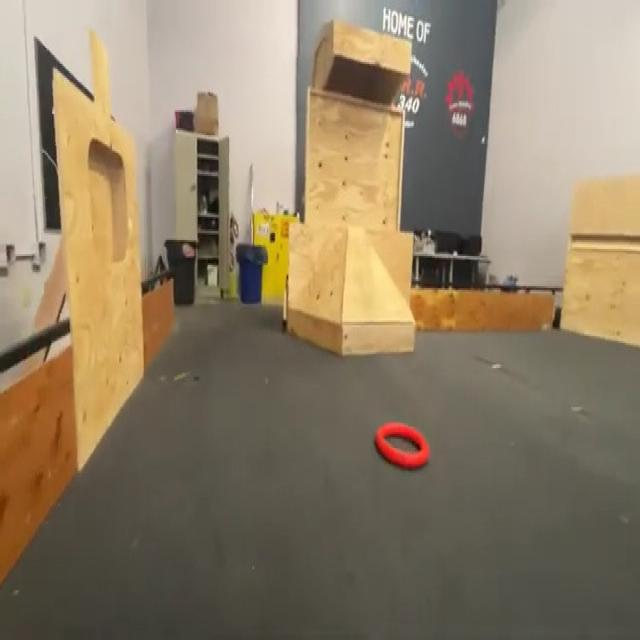note: (372, 423, 430, 470)
